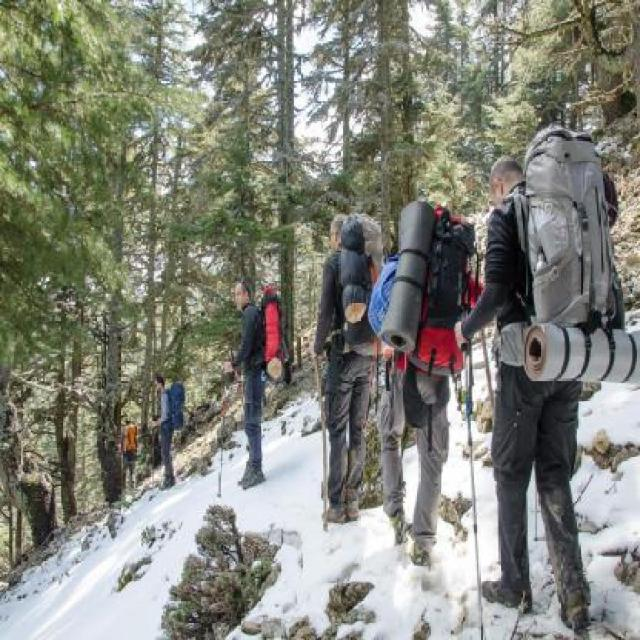backpack: (518, 122, 628, 336), (377, 192, 469, 382), (338, 206, 380, 362), (258, 282, 292, 392), (168, 382, 188, 436), (123, 423, 139, 462)
